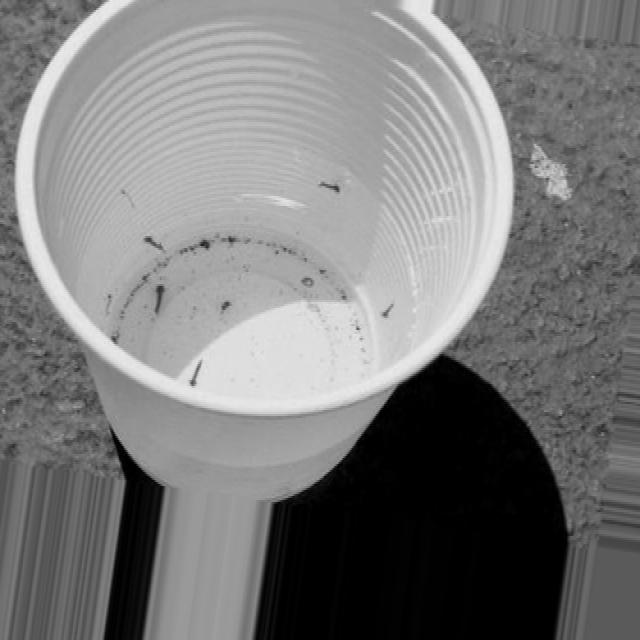larvas: (190, 357, 202, 385), (121, 188, 135, 210), (156, 282, 164, 317), (321, 181, 341, 194), (146, 238, 164, 252), (381, 302, 394, 320), (301, 275, 314, 288), (107, 292, 112, 312)
